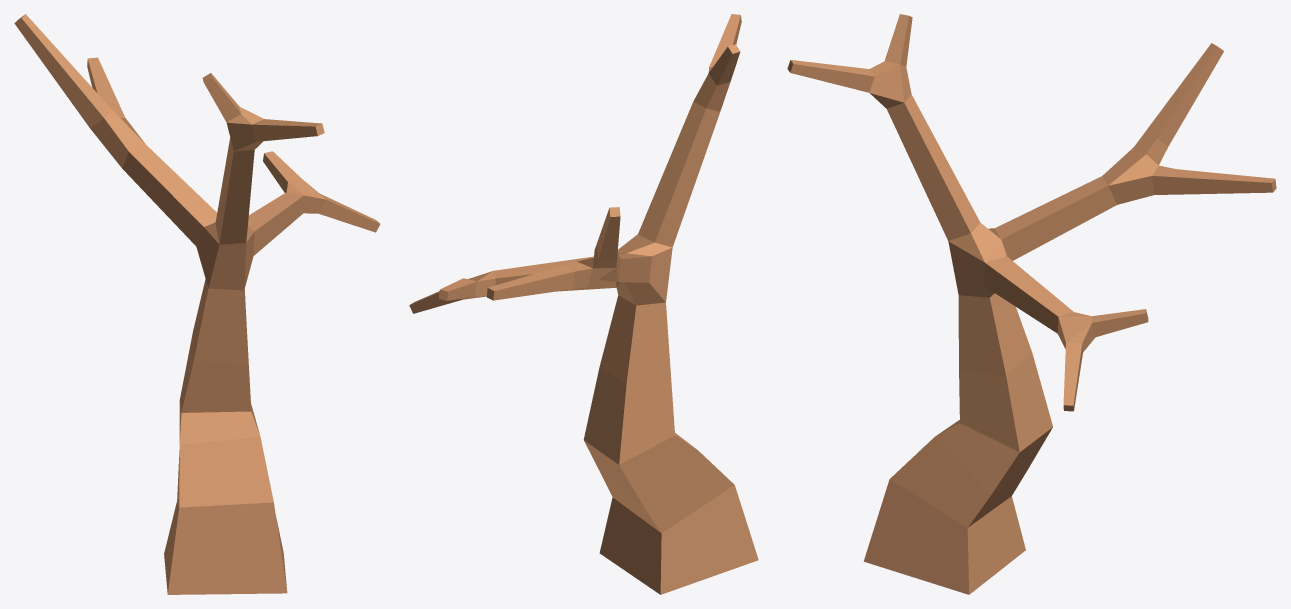
Rendered from tree1.fbx.
3 views of the same model, side by side, from view 1: azimuth 30°, elevation 25°; view 2: azimuth 150°, elevation 25°; view 3: azimuth 270°, elevation 25° (orthographic). The views are drawn at different scales.
Visible parts, largest first — view 1: Cube; view 2: Cube; view 3: Cube.
Boxes of the visible parts, box(x1,y1,x2,y2) form: Cube: box(14, 14, 380, 594); Cube: box(409, 14, 758, 594); Cube: box(787, 14, 1276, 594).
Bounding box in the file's own units: 239 × 415 × 348.
